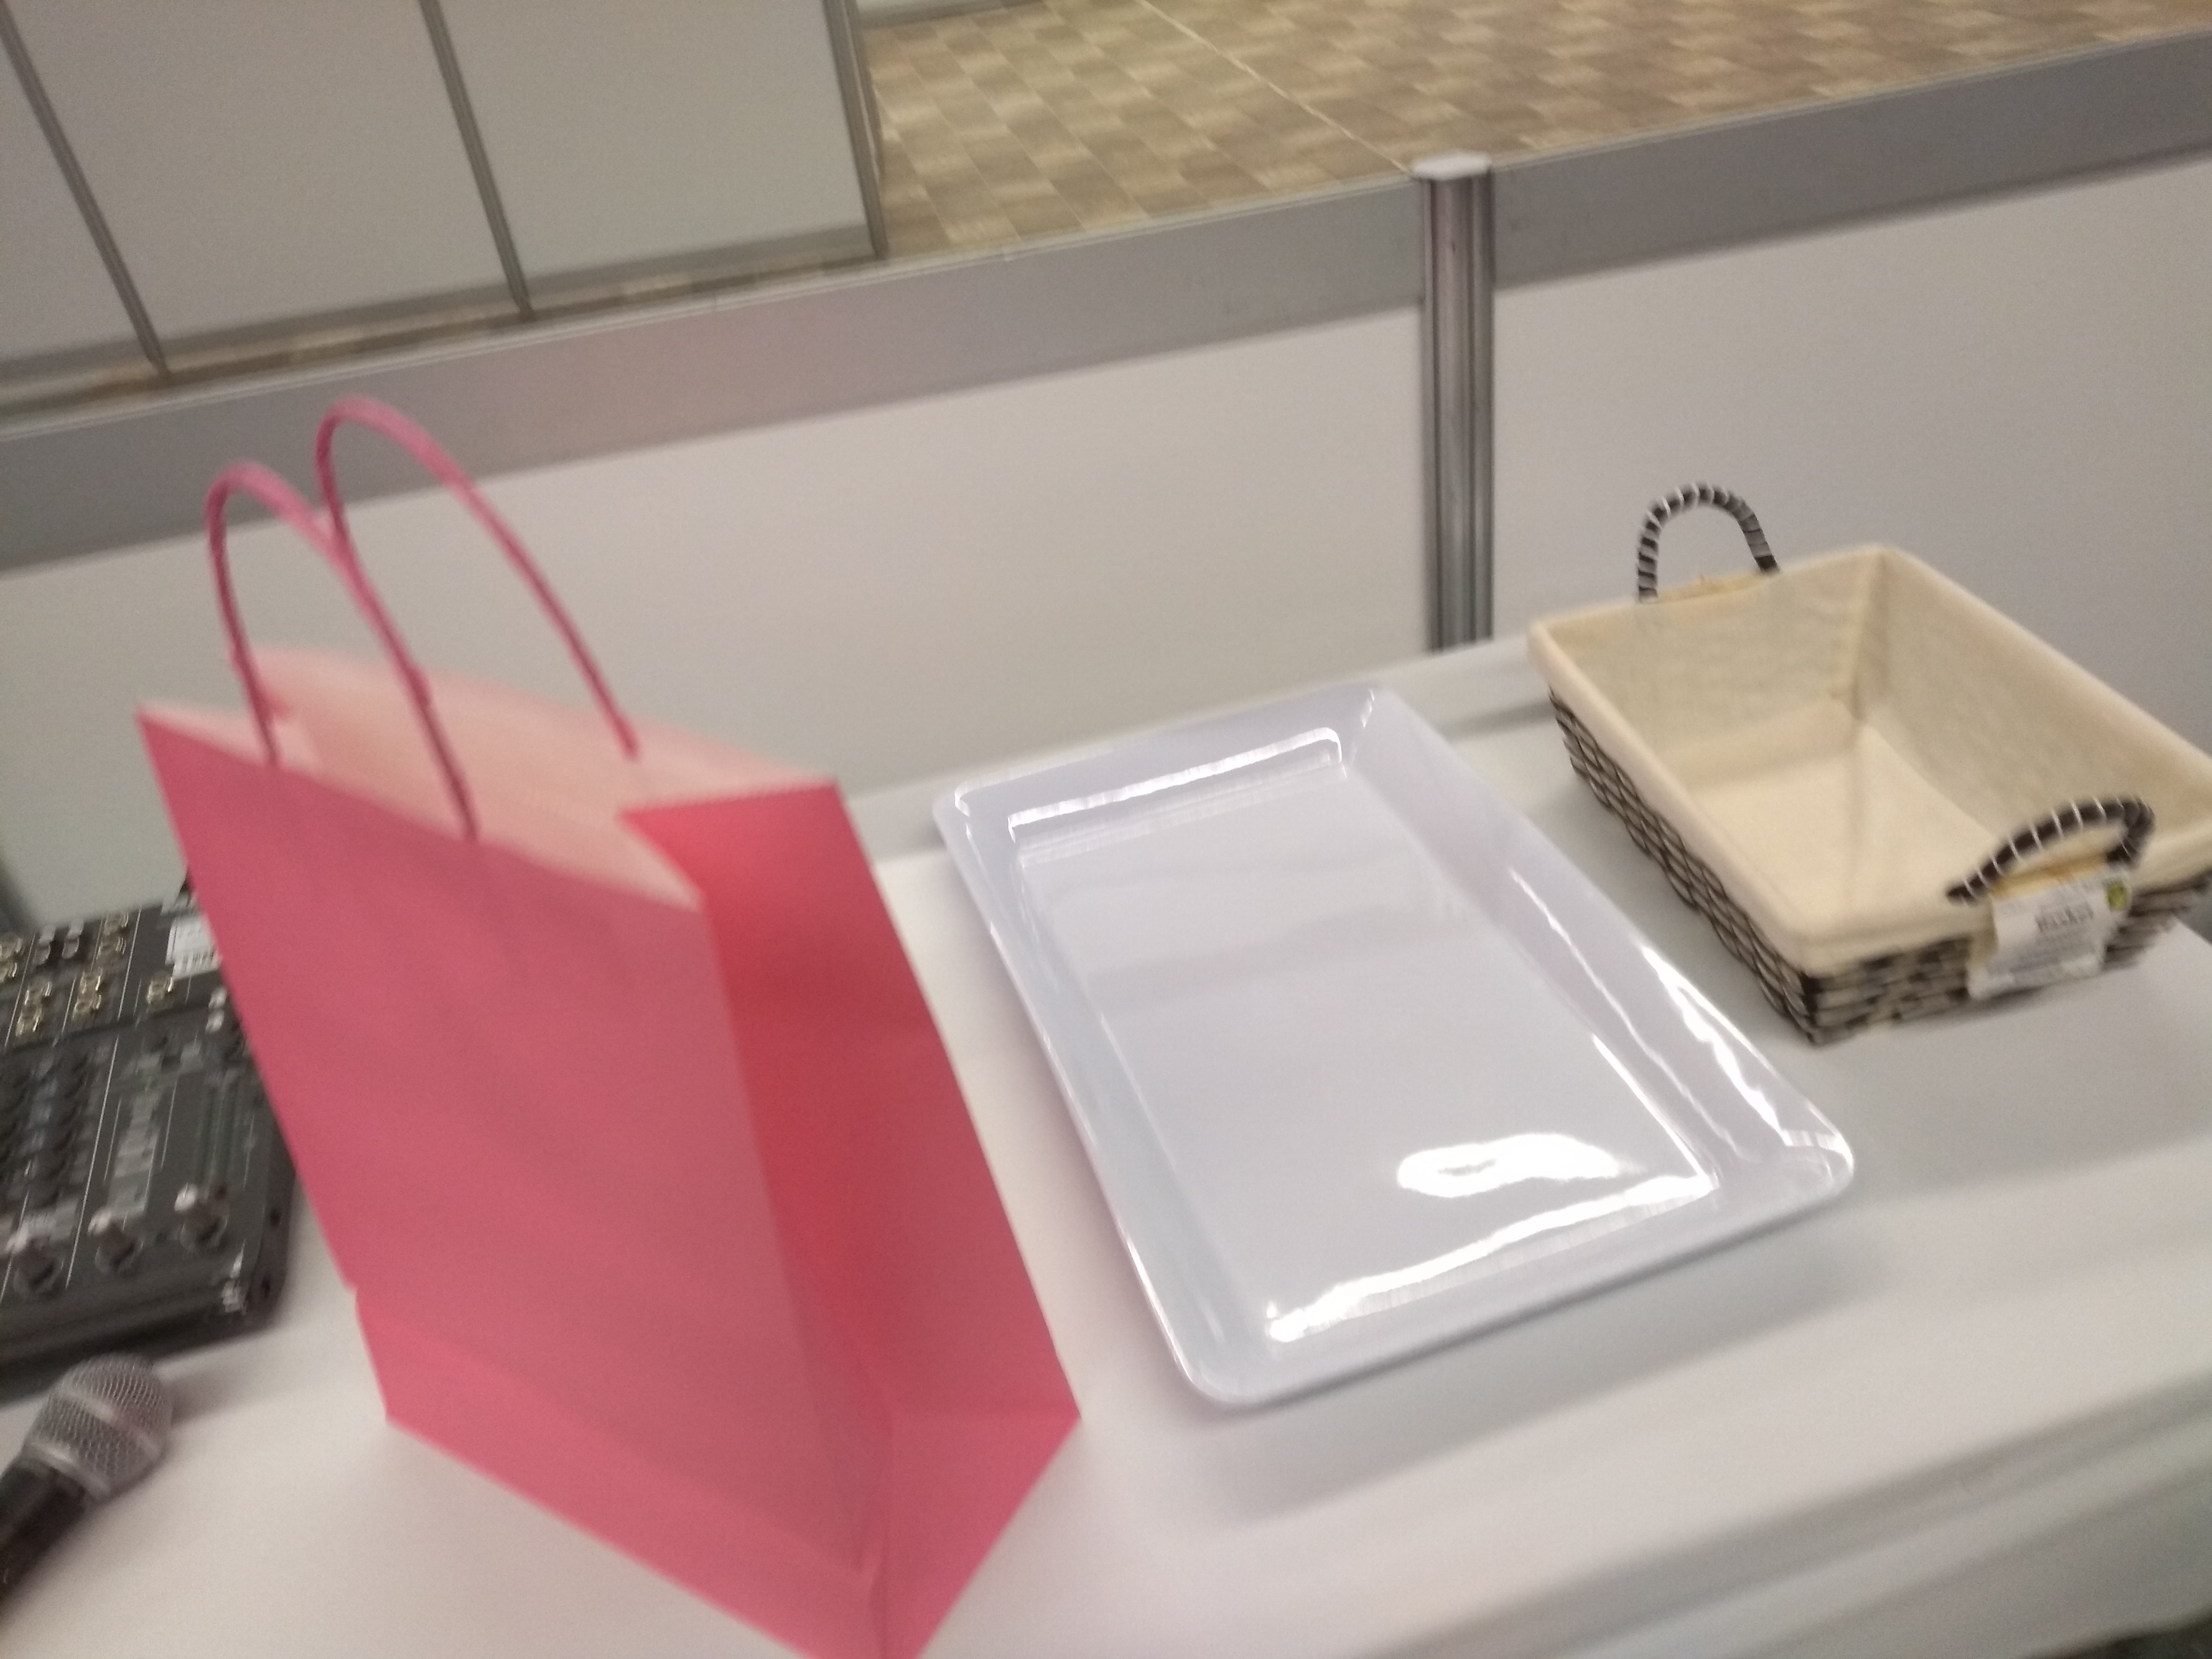basket: (1524, 483, 2212, 1042)
help_me_carry_opl: (138, 394, 1096, 1652)
tray: (930, 669, 1860, 1401)
